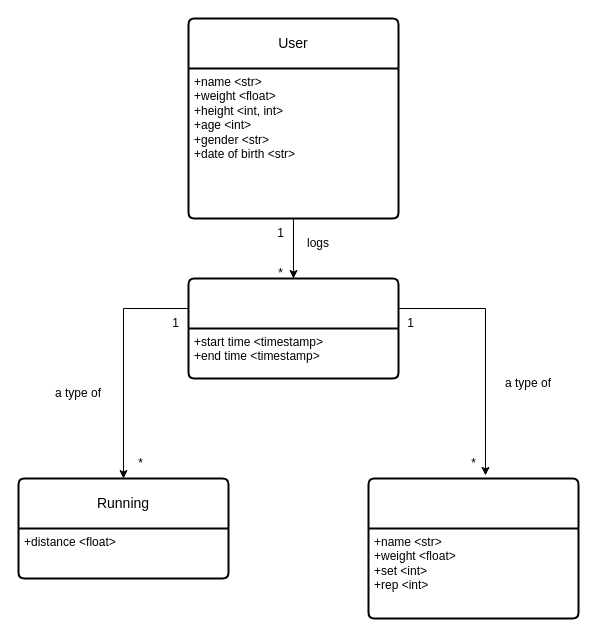
This 596x636 diagram has some shape labels left out. The shapes that lost their labels are listed below. From the top down, each one's box as (x1, y1, x2, y2) in pixels, then its label:
(187, 277, 399, 379): Workout
(367, 477, 579, 619): Weightlifting
